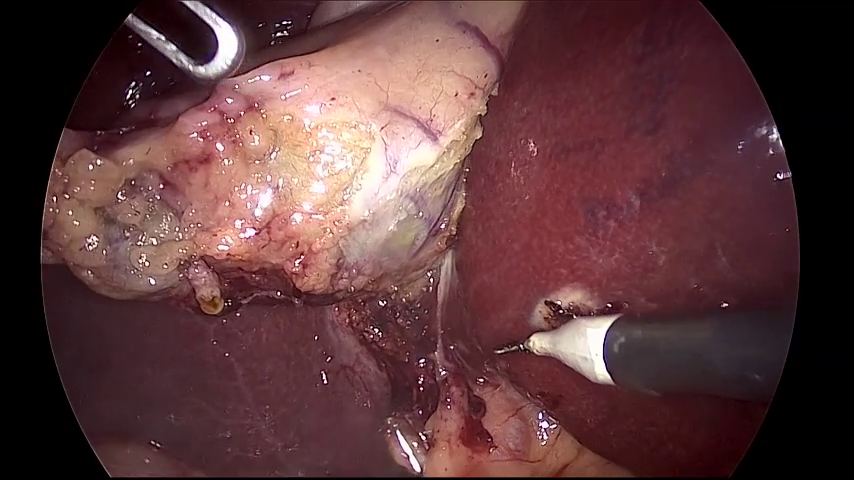grasper: (124, 1, 245, 77)
lhook: (497, 302, 796, 400)
